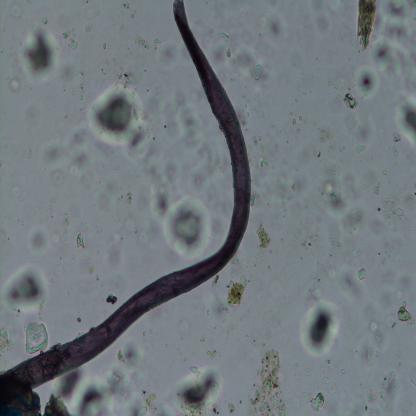Background material: (85, 66, 152, 155), (152, 183, 210, 262), (142, 143, 217, 189), (156, 86, 203, 157), (372, 0, 416, 75), (17, 18, 61, 87), (221, 28, 271, 88), (171, 360, 226, 414), (297, 296, 340, 360), (0, 259, 48, 316), (43, 374, 111, 414), (41, 124, 87, 182), (106, 214, 150, 274), (252, 344, 284, 415), (269, 154, 309, 206), (105, 338, 139, 398), (293, 200, 325, 255), (357, 305, 386, 363), (326, 225, 368, 262), (123, 381, 166, 416), (203, 294, 238, 336), (334, 255, 362, 305), (375, 227, 411, 265), (378, 267, 412, 307), (391, 96, 416, 148), (353, 0, 378, 49), (248, 123, 272, 170), (223, 273, 249, 314), (288, 83, 310, 130), (320, 178, 346, 214), (22, 319, 50, 352), (378, 195, 405, 229), (342, 115, 374, 143), (314, 115, 336, 155), (355, 64, 378, 100), (378, 369, 399, 408), (340, 206, 368, 234), (63, 25, 87, 56), (26, 221, 50, 252), (260, 15, 288, 40), (302, 388, 326, 415), (310, 1, 327, 38), (252, 220, 272, 251), (310, 260, 330, 290), (359, 386, 377, 416), (132, 36, 162, 54), (392, 304, 416, 326), (70, 66, 85, 100), (120, 184, 138, 212), (341, 90, 359, 112), (322, 80, 340, 100), (47, 230, 65, 249), (320, 374, 336, 395), (175, 315, 193, 333), (10, 180, 23, 204), (85, 262, 100, 282), (202, 348, 220, 364), (104, 291, 119, 307), (8, 81, 24, 95), (74, 230, 85, 249), (61, 212, 72, 231), (228, 395, 237, 416), (356, 266, 367, 282), (356, 142, 367, 155), (100, 35, 106, 52), (339, 367, 347, 379)
Cotton: (0, 0, 253, 378)
